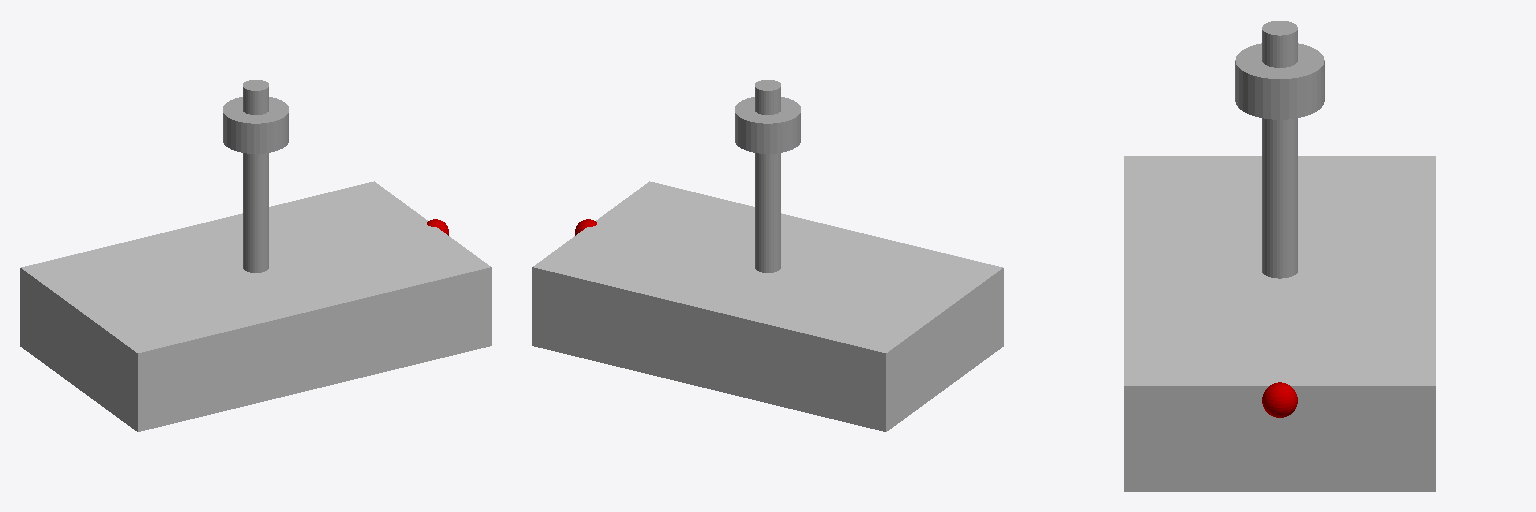
URDF robot description (heijn):
<?xml version="1.0"?>
<robot name="heijn">
  <!--colors-->
  <material name="blue">
      <color rgba="0 0 0.8 1"/>
  </material>
  <material name="red">
      <color rgba="0.8 0 0.0 1"/>
  </material>
  <material name="transparent_red">
      <color rgba="0.8 0 0.0 0.2"/>
  </material>
  <material name="darkgrey">
      <color rgba="0.5 0.5 0.5 1.0"/>
  </material>
  <material name="grey">
      <color rgba="0.7 0.7 0.7 1.0"/>
  </material>
  <material name="lightgrey">
      <color rgba="0.8 0.8 0.8 1"/>
  </material>
  <!--links-->
  <link name="world"/>
  <link name="base_link_x">
    <inertial>
      <mass value="2.0"/>
      <origin rpy="0 0 0" xyz="0 0 0"/>
      <inertia ixx="1.0" ixy="0.0" ixz="0.0" iyy="1.0" iyz="0.0" izz="1.0"/>
    </inertial>
  </link>
  <link name="base_link_y">
    <inertial>
      <mass value="2.0"/>
      <origin rpy="0 0 0" xyz="0 0 0"/>
      <inertia ixx="1.0" ixy="0.0" ixz="0.0" iyy="1.0" iyz="0.0" izz="1.0"/>
    </inertial>
  </link>
  <link name="base_link">
    <inertial>
      <mass value="2.0"/>
      <origin rpy="0 0 0" xyz="0 0 0"/>
      <inertia ixx="1.0" ixy="0.0" ixz="0.0" iyy="1.0" iyz="0.0" izz="1.0"/>
    </inertial>
    <collision>
      <origin rpy="0.0 0 0" xyz="0 0 0"/>
      <geometry>
        <box size='0.61 0.35 0.13'/>
      </geometry>
    </collision>
    <visual>
      <origin rpy="0.0 0 0" xyz="0 0 0"/>
      <geometry>
        <box size='0.61 0.35 0.13'/>
      </geometry>
      <material name="lightgrey"/>
    </visual>
  </link>
  <link name="pole_link">
    <inertial>
      <mass value="0.3"/>
      <origin rpy="0 0 0" xyz="0 0 0"/>
      <inertia ixx="1.0" ixy="0.0" ixz="0.0" iyy="1.0" iyz="0.0" izz="1.0"/>
    </inertial>
    <collision>
      <origin rpy="0.0 0 0" xyz="0 0 0.1"/>
      <geometry>
          <cylinder length="0.33" radius="0.02"/>
      </geometry>
    </collision>
    <visual>
      <origin rpy="0.0 0 0" xyz="0 0 0.1"/>
      <geometry>
          <cylinder length="0.33" radius="0.02"/>
      </geometry>
      <material name="grey"/>
    </visual>
  </link>
  <link name="platform_link">
    <inertial>
      <mass value="2.0"/>
      <origin rpy="0 0 0" xyz="0 0 0"/>
      <inertia ixx="1.0" ixy="0.0" ixz="0.0" iyy="1.0" iyz="0.0" izz="1.0"/>
    </inertial>
    <collision>
      <origin rpy="0.0 0 0" xyz="0 0 0"/>
      <geometry>
          <cylinder length="0.05" radius="0.05"/>
      </geometry>
    </collision>
    <visual>
      <origin rpy="0.0 0 0" xyz="0 0 0"/>
      <geometry>
          <cylinder length="0.05" radius="0.05"/>
      </geometry>
      <material name="grey"/>
    </visual>
  </link>
  <link name="front_link">
    <inertial>
      <mass value="0.01"/>
      <origin rpy="0 0 0" xyz="0 0 0"/>
      <inertia ixx="1.0" ixy="0.0" ixz="0.0" iyy="1.0" iyz="0.0" izz="1.0"/>
    </inertial>
    <visual>
      <origin rpy="0.0 0 0" xyz="0 0 0"/>
      <geometry>
          <sphere radius="0.02"/>
      </geometry>
      <material name="red"/>
    </visual>
  </link>
  <link name="lidar_sensor_link">
    <inertial>
      <mass value="0.01"/>
      <origin rpy="0 0 0" xyz="0 0 0"/>
      <inertia ixx="1.0" ixy="0.0" ixz="0.0" iyy="1.0" iyz="0.0" izz="1.0"/>
    </inertial>
  </link>
  <!--joints-->
  <joint name="mobile_joint_x" type="prismatic">
    <safety_controller k_position="100.0" k_velocity="40.0" soft_lower_limit="-2.8973" soft_upper_limit="2.8973"/>
    <parent link="world"/>
    <child link="base_link_x"/>
    <origin rpy="0 0 0" xyz="0 0 0.05"/>
    <axis xyz="1 0 0"/>
    <limit effort="300" lower="-5" upper="5" velocity="2.1750"/>
  </joint>
  <joint name="mobile_joint_y" type="prismatic">
    <safety_controller k_position="100.0" k_velocity="40.0" soft_lower_limit="-2.8973" soft_upper_limit="2.8973"/>
    <parent link="base_link_x"/>
    <child link="base_link_y"/>
    <origin rpy="0 0 0" xyz="0 0 0"/>
    <axis xyz="0 1 0"/>
    <limit effort="300" lower="-5" upper="5" velocity="2.1750"/>
  </joint>
  <joint name="mobile_joint_theta" type="revolute">
    <parent link="base_link_y"/>
    <child link="base_link"/>
    <origin rpy="0 0 0" xyz="0 0 0"/>
    <axis xyz="0 0 1"/>
    <limit effort="300" lower="-5000" upper="5000" velocity="2.1750"/>
  </joint>
  <joint name="robot_pole_joint" type="fixed">
    <parent link="base_link"/>
    <child link="pole_link"/>
    <origin rpy="0 0 0" xyz="0 0 0.1"/>
  </joint>
  <joint name="platform_joint" type="fixed">
    <parent link="pole_link"/>
    <child link="platform_link"/>
    <origin rpy="0 0 0" xyz="0 0 0.2"/>
  </joint>
  <joint name="lidar_sensor_joint" type="fixed">
    <parent link="platform_link"/>
    <child link="lidar_sensor_link"/>
    <origin rpy="0 0 0" xyz="0 0 0.1"/>
  </joint>
  <joint name="front_link_joint" type='fixed'>
    <parent link="base_link"/>
    <child link="front_link"/>
    <origin rpy="0 0 0" xyz="0.31 0.0 0.05"/>
  </joint>  
</robot>

--- Render facts (derived) ---
The picture shows the robot from 3 angles, left to right: view 1: azimuth 30°, elevation 25°; view 2: azimuth 150°, elevation 25°; view 3: azimuth 270°, elevation 25°; orthographic projection.
Robot: heijn — 8 links, 7 joints (1 revolute, 2 prismatic, 4 fixed); root link world; default pose: all joints at 0.
Links seen in each view (by area): view 1: base_link, pole_link, platform_link; view 2: base_link, pole_link, platform_link; view 3: base_link, pole_link, platform_link, front_link.
Boxes of the visible links, bbox=[...] form: base_link: bbox=[20, 181, 491, 431]; pole_link: bbox=[243, 80, 268, 272]; platform_link: bbox=[223, 97, 288, 153]; base_link: bbox=[532, 181, 1003, 431]; pole_link: bbox=[755, 80, 780, 272]; platform_link: bbox=[735, 97, 800, 153]; base_link: bbox=[1124, 156, 1435, 491]; pole_link: bbox=[1262, 21, 1297, 278]; platform_link: bbox=[1235, 43, 1324, 119]; front_link: bbox=[1262, 382, 1297, 417].
Bounding box of the posed robot: 0.635 × 0.35 × 0.43 m (x, y, z).
Geometry: primitives only (box / cylinder / sphere), no mesh files.
